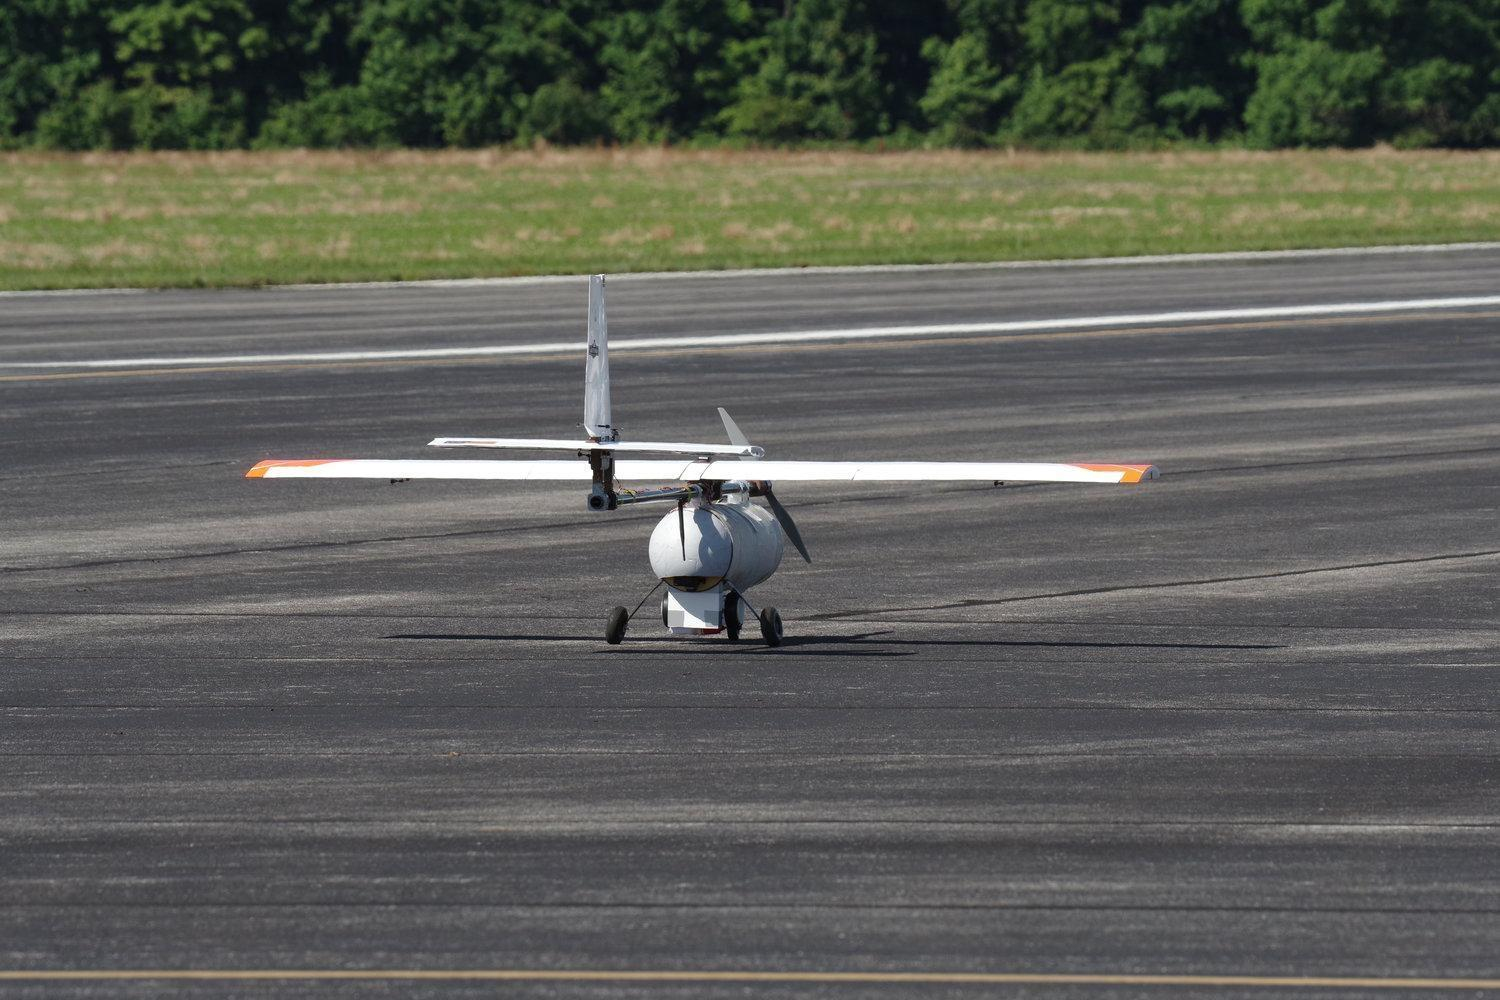Airplane: (235, 265, 1164, 658)
